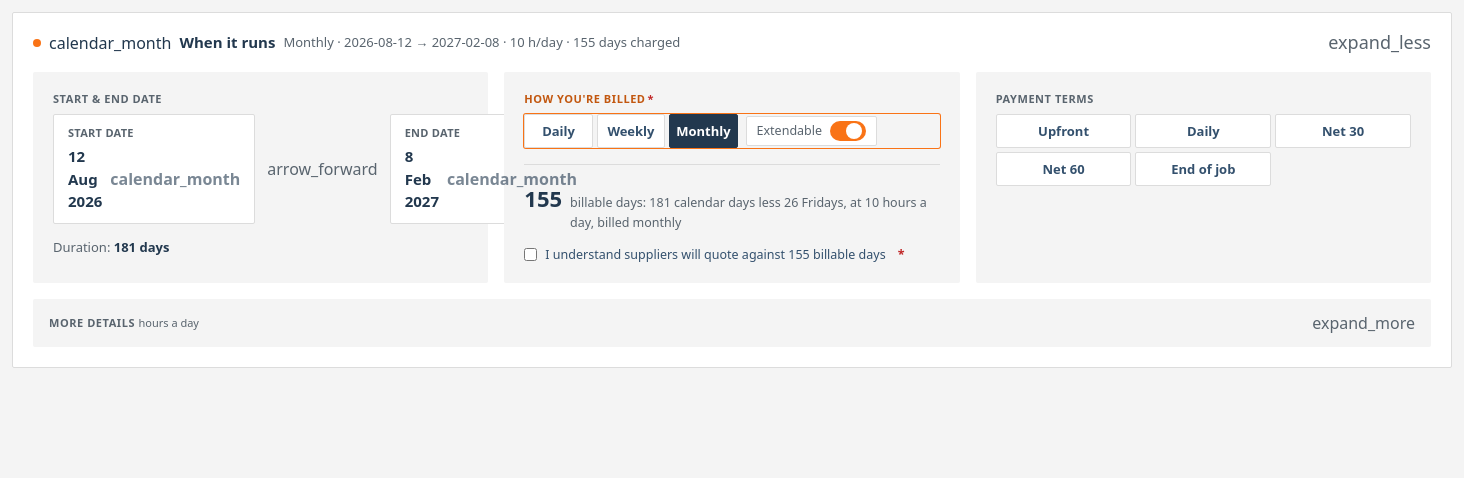
Test: hours (MREQ-AC-37) › offers the platform's hour options
Click the button "MORE DETAILS hours a day expand_more" at (92, 322), box [33,299,1431,347]
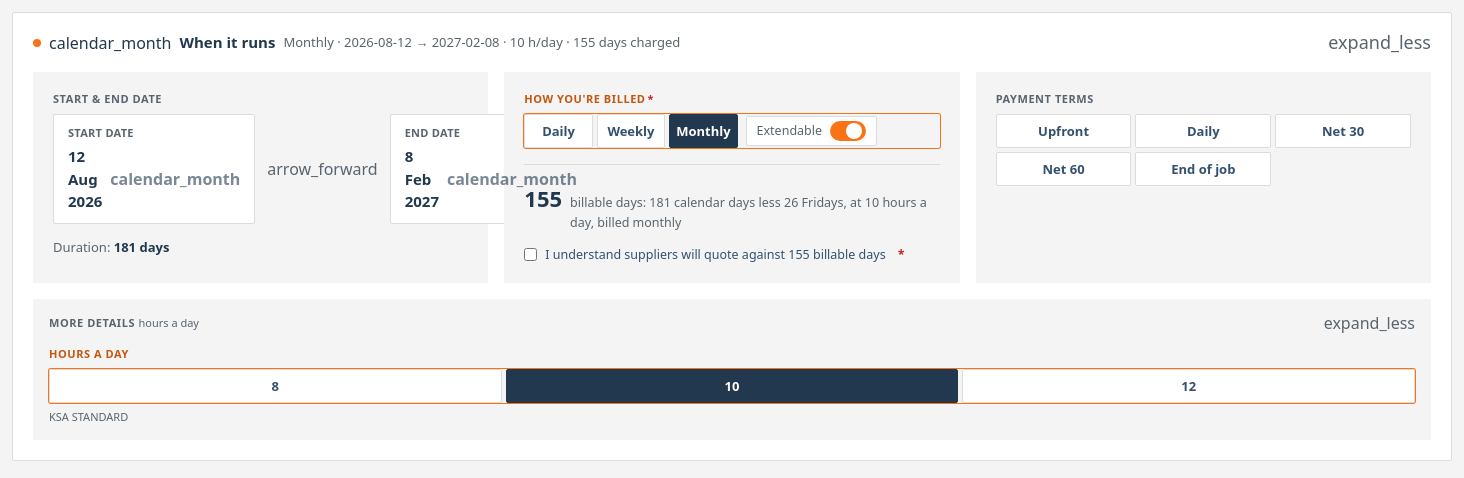
expect the button "8" is shown: met, box [49,369,502,403]
expect the button "10" is shown: met, box [506,369,958,403]
expect the button "12" is shown: met, box [962,369,1415,403]
